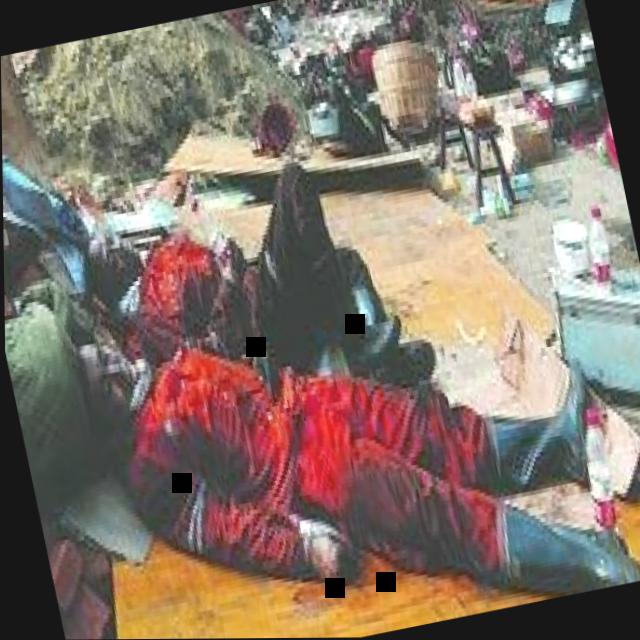Fall-Detected: (58, 106, 418, 407)
